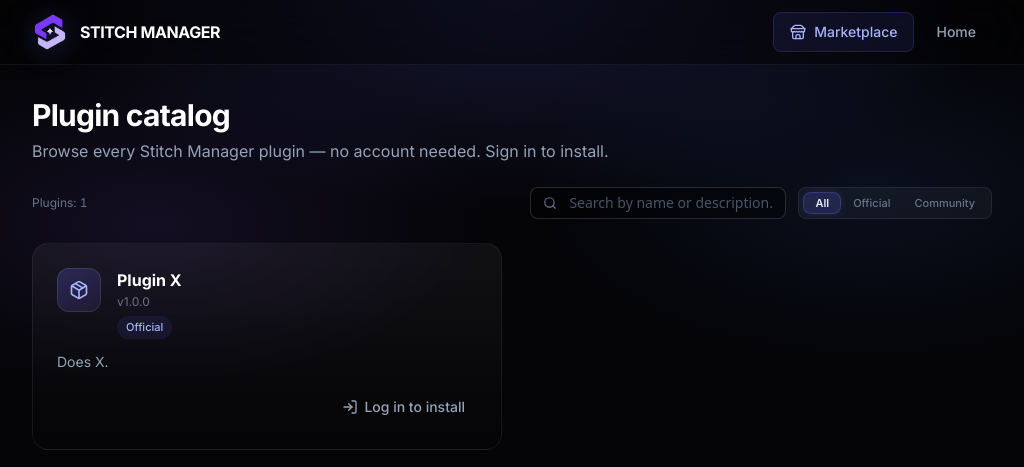
Scenario: CatalogPage › shows a no-results state when filters exclude everything
The width and height of the screenshot is (1024, 467).
Expected: the text "Plugin X" is shown, 117,270 -> 182,290
Type "zzz" into the field labelled "Search by name or description..." at (671, 203), box 557,185 -> 785,221
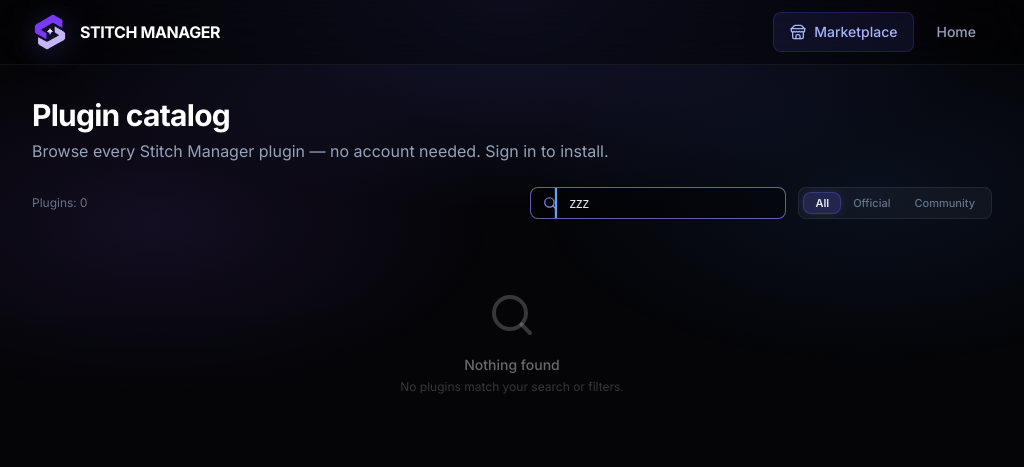
Result: the text "Nothing found" is shown at 464,355 -> 560,375
Result: the text "Plugin X" is gone
